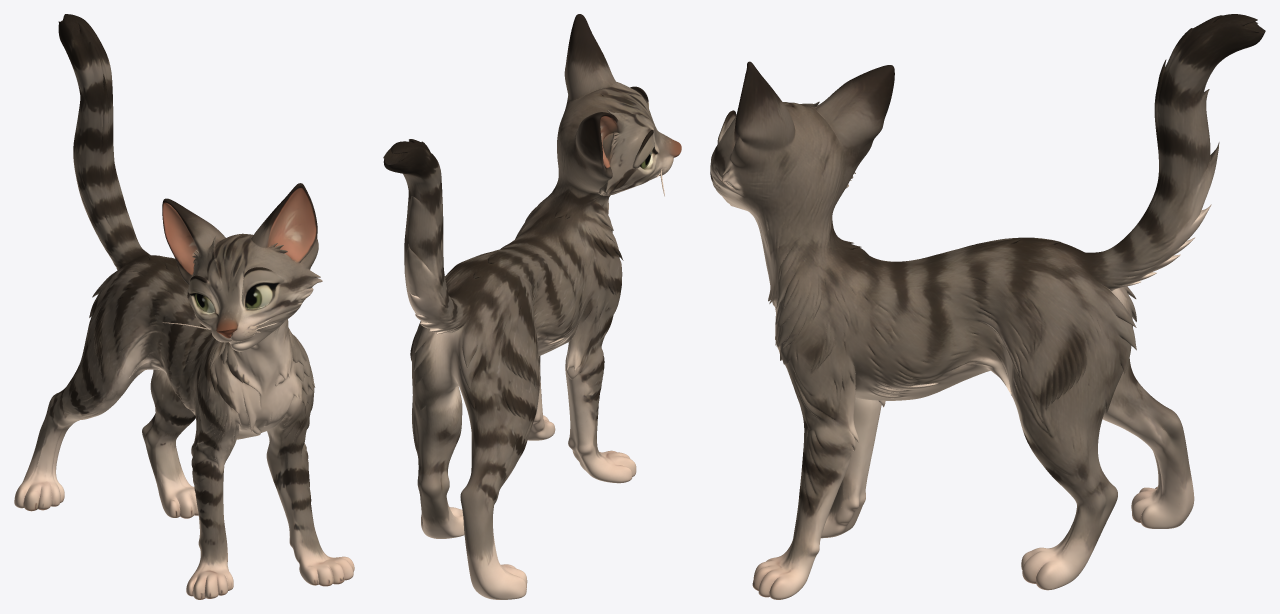
File: cat2__base_basic_pbr.glb
The picture shows the model from 3 angles, left to right: view 1: azimuth 30°, elevation 25°; view 2: azimuth 150°, elevation 25°; view 3: azimuth 270°, elevation 25°; orthographic projection. The views are drawn at different scales.
Parts seen in each view (by area): view 1: model; view 2: model; view 3: model.
Boxes of the visible parts, <box> form: model: <box>14,14,354,599</box>; model: <box>383,14,681,599</box>; model: <box>710,14,1265,599</box>.
Bounding box in the file's own units: 0.797 × 1.9 × 1.76.
Materials: 1 (1 with a texture image).
